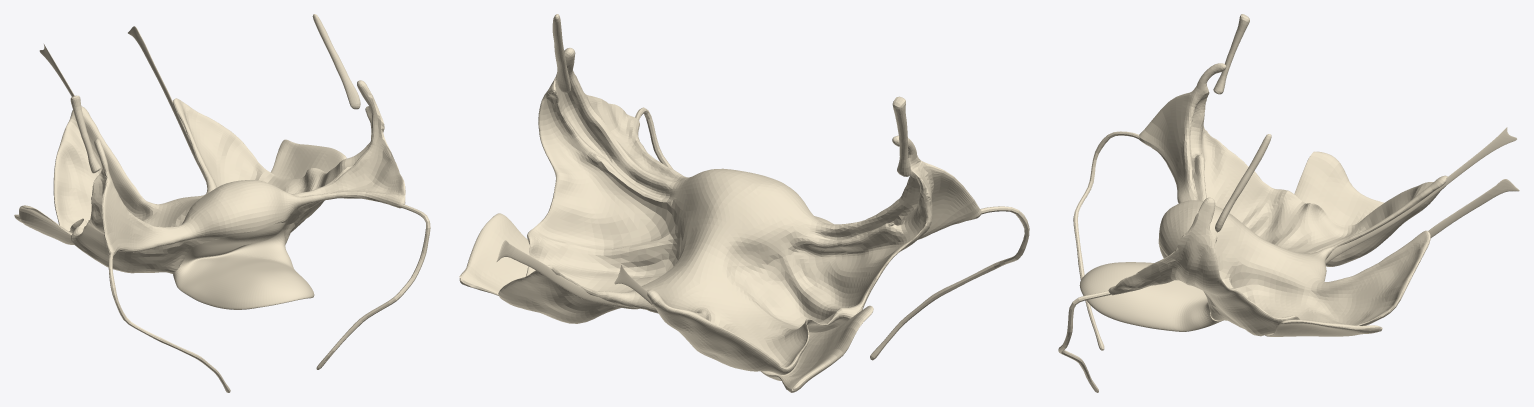
The model's file is reproductive-ligaments.glb.
3 views of the same model, side by side, from view 1: azimuth 30°, elevation 25°; view 2: azimuth 150°, elevation 25°; view 3: azimuth 270°, elevation 25° (orthographic). The views are drawn at different scales.
Visible parts, largest first — view 1: reproductive-ligaments; view 2: reproductive-ligaments; view 3: reproductive-ligaments.
Boxes of the visible parts, box(x1,y1,x2,y2) form: reproductive-ligaments: box(14, 14, 430, 392); reproductive-ligaments: box(459, 14, 1029, 392); reproductive-ligaments: box(1058, 14, 1519, 392).
Size of the model in its own units: 0.1471 by 0.1234 by 0.1706.
